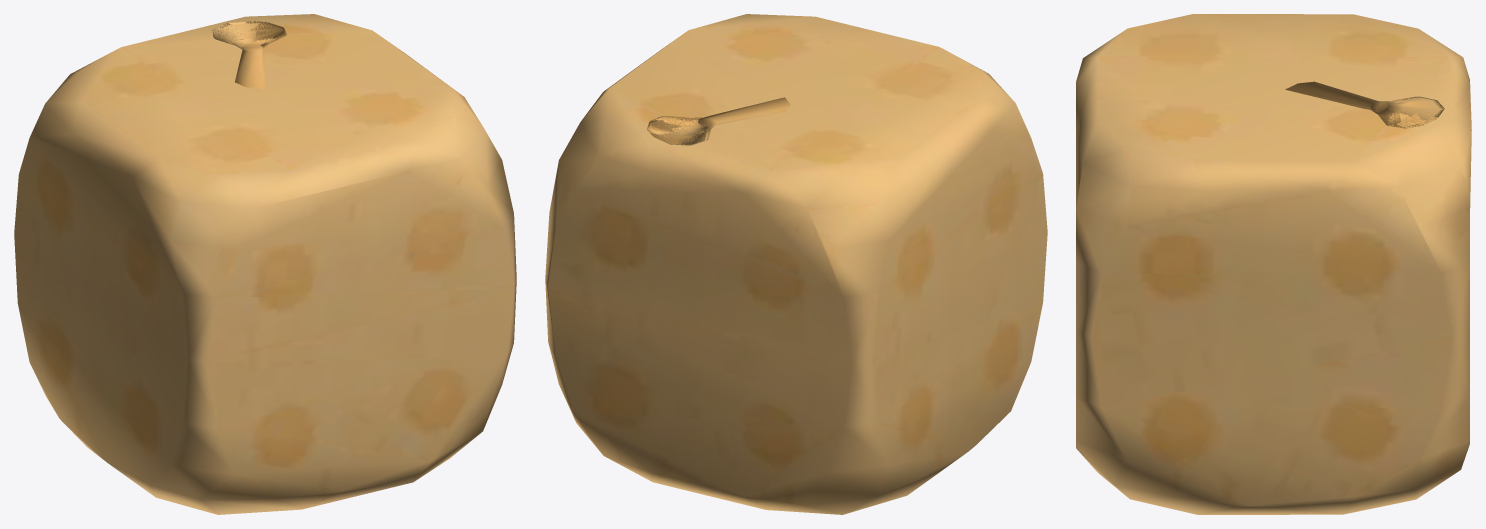
The model's file is die.glb.
3 renders of one model, left to right at view 1: azimuth 30°, elevation 25°; view 2: azimuth 150°, elevation 25°; view 3: azimuth 270°, elevation 25°, orthographic. The views are drawn at different scales.
Size of the model in its own units: 0.6792 by 0.6698 by 0.6782.
1 material, 1 textured.
